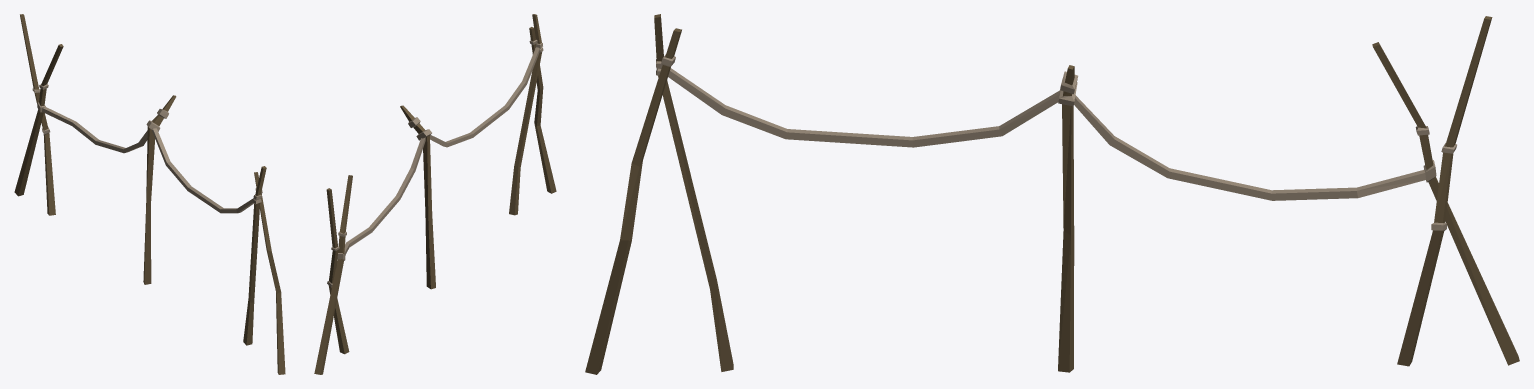
The model's file is SM_Prop_Rope_Fence_01.glb.
3 views of the same model, side by side, from view 1: azimuth 30°, elevation 25°; view 2: azimuth 150°, elevation 25°; view 3: azimuth 270°, elevation 25° (orthographic). The views are drawn at different scales.
Parts seen in each view (by area): view 1: SM_Prop_Rope_Fence_01_part00; view 2: SM_Prop_Rope_Fence_01_part00; view 3: SM_Prop_Rope_Fence_01_part00.
Part boxes in pixels (x1,y1,x2,y2): SM_Prop_Rope_Fence_01_part00: [14, 14, 285, 374]; SM_Prop_Rope_Fence_01_part00: [314, 14, 556, 374]; SM_Prop_Rope_Fence_01_part00: [585, 14, 1519, 374].
Bounding box in the file's own units: 0.7506 × 3.29 × 7.72.
Materials: 1 (1 with a texture image).
